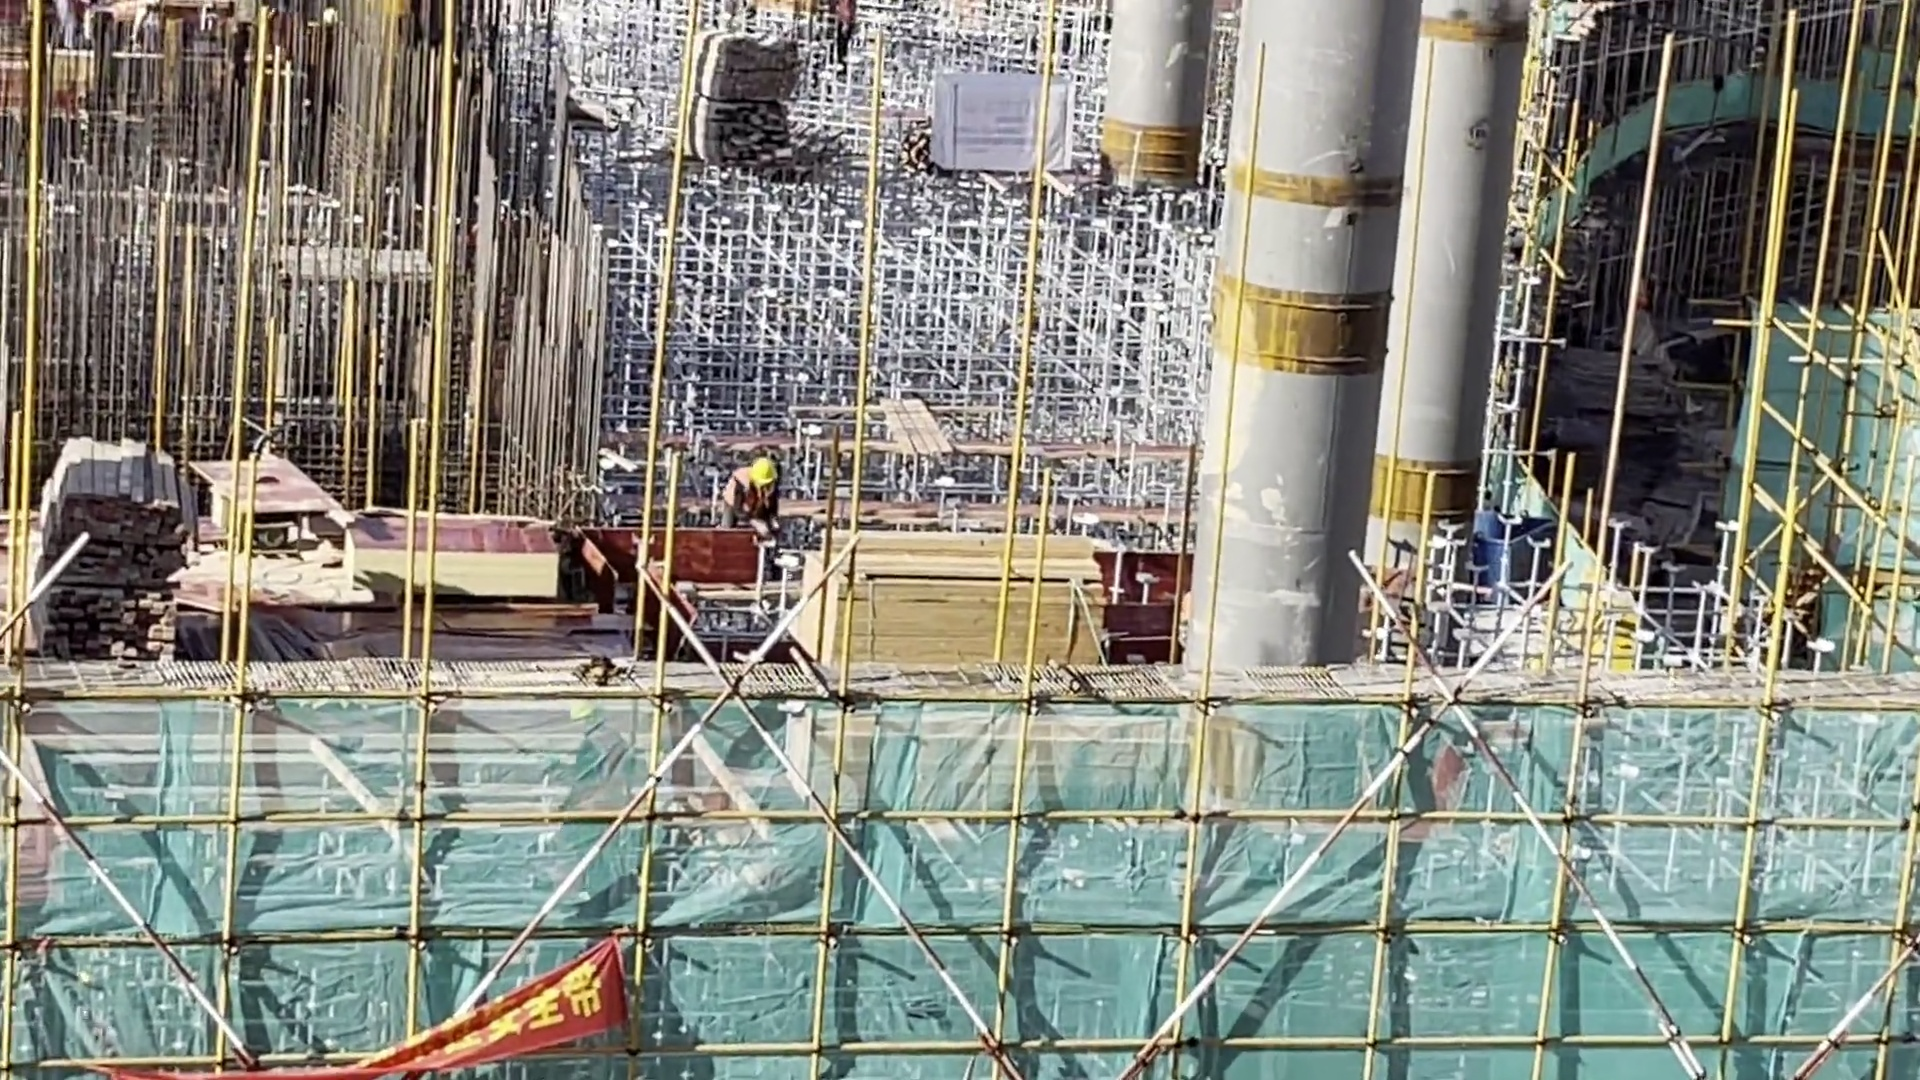helmet: (747, 454, 789, 490)
person: (711, 458, 806, 543)
slogan: (202, 914, 663, 1072)
vest: (721, 465, 756, 514)
wood: (795, 515, 1152, 679), (29, 415, 201, 680)
